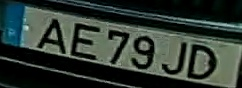7: (105, 26, 132, 66)
9: (129, 34, 156, 70)
A: (34, 16, 67, 55)
D: (185, 42, 218, 81)
E: (68, 20, 102, 62)
J: (159, 40, 188, 76)
